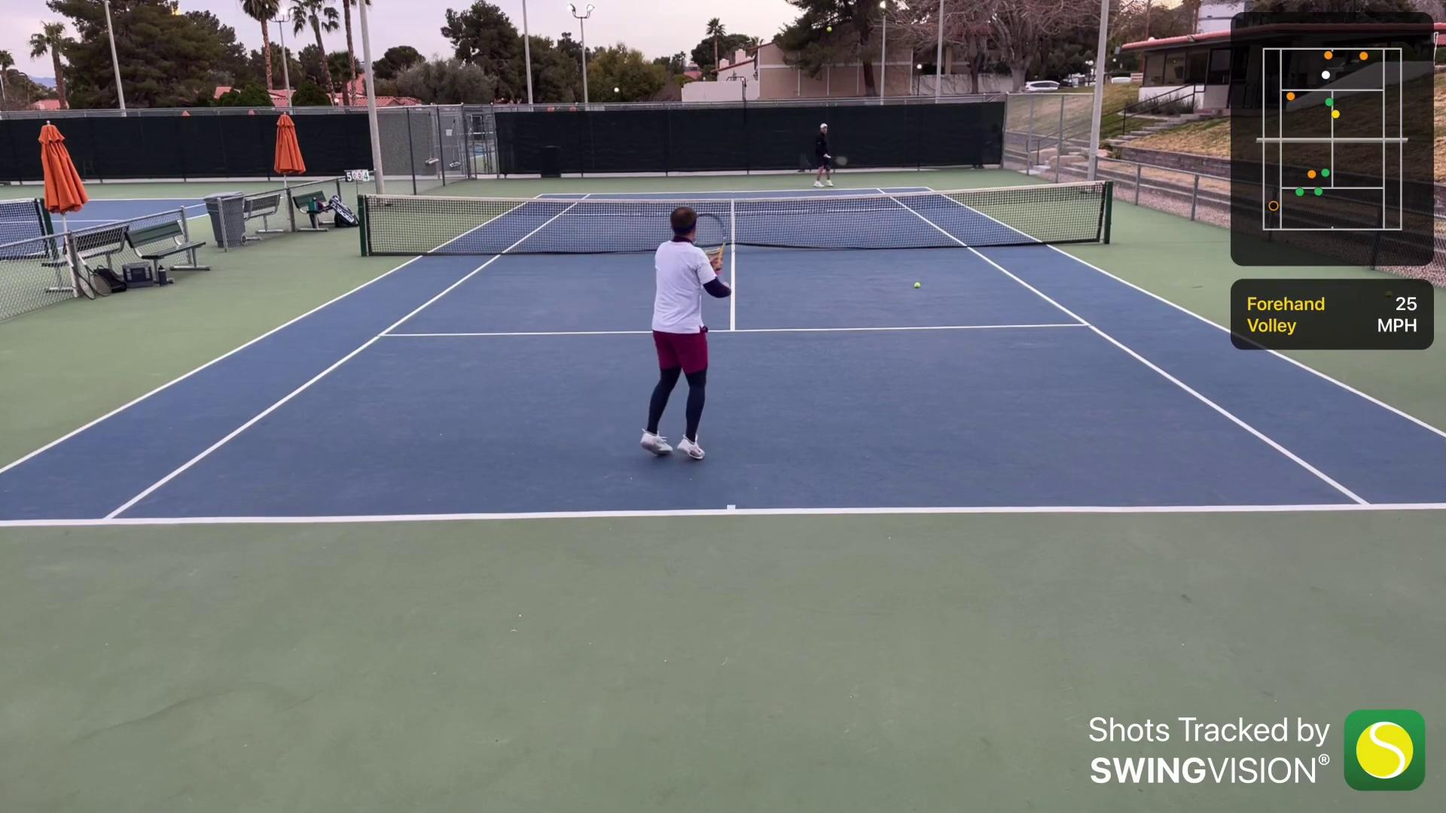ball: (913, 280, 921, 291), (825, 24, 833, 35)
